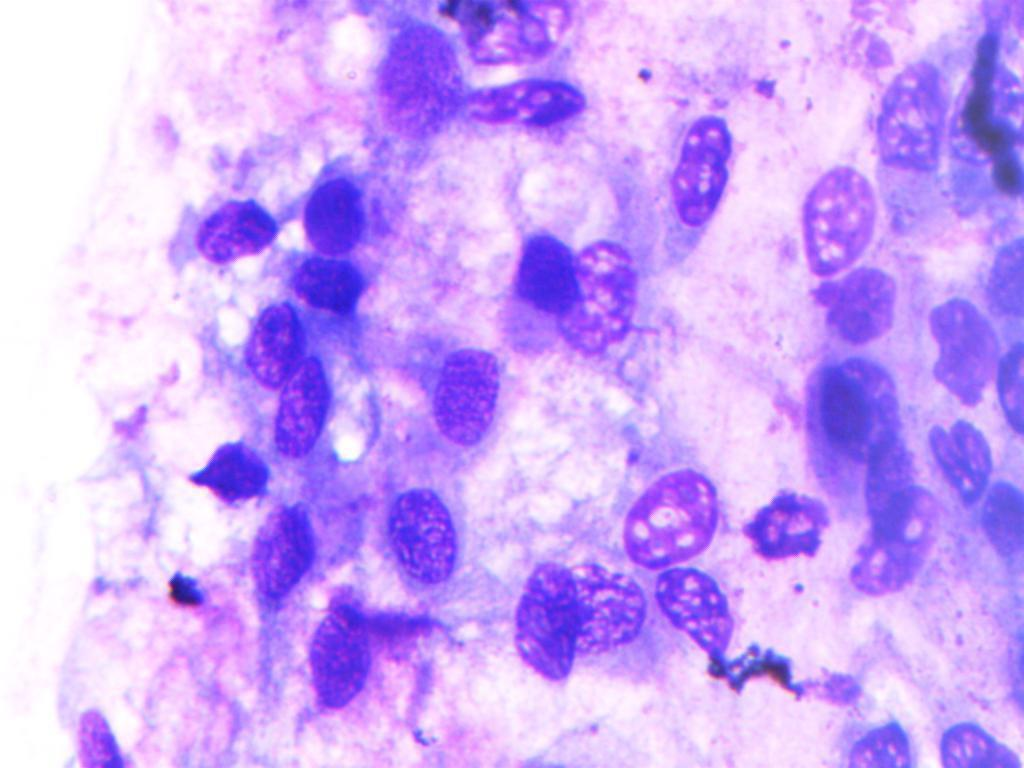artifact: (960, 24, 1024, 201), (60, 691, 158, 768), (447, 0, 570, 59), (471, 77, 581, 139), (331, 600, 468, 638), (160, 568, 209, 610)
epithelial: (633, 102, 780, 290), (212, 498, 320, 698), (647, 561, 788, 685), (585, 455, 732, 566), (360, 15, 471, 162), (833, 480, 946, 588), (793, 351, 900, 465), (417, 351, 518, 452), (506, 549, 579, 688), (867, 52, 947, 172), (799, 160, 879, 280), (923, 288, 1003, 408), (288, 168, 390, 256), (176, 183, 278, 271), (798, 264, 900, 352), (176, 426, 278, 514), (732, 481, 834, 569), (563, 231, 629, 361), (385, 487, 465, 593), (231, 304, 320, 397), (569, 559, 651, 658), (923, 691, 1024, 768), (276, 252, 393, 318), (313, 581, 368, 719), (967, 228, 1024, 344), (930, 417, 995, 511), (509, 227, 580, 310), (834, 705, 923, 768)
